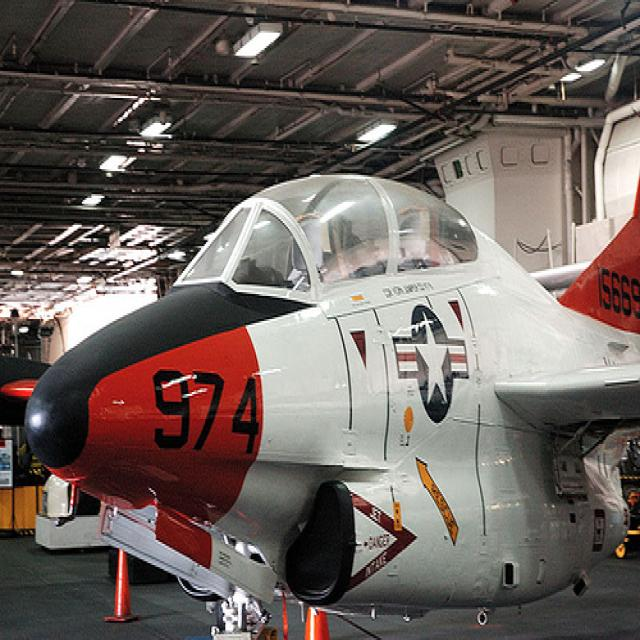aeroplane: (25, 165, 640, 609)
